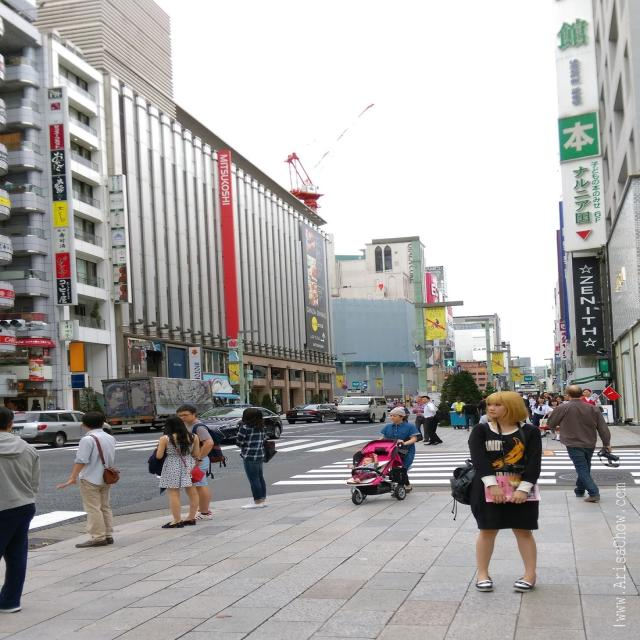body: (448, 390, 544, 593), (0, 402, 45, 614), (55, 411, 122, 548), (546, 384, 622, 504), (146, 414, 202, 530), (176, 404, 229, 522), (233, 406, 279, 510), (377, 406, 423, 498), (314, 394, 409, 414), (517, 392, 566, 426), (417, 395, 444, 446), (346, 453, 379, 484), (411, 395, 430, 443), (530, 396, 549, 438), (544, 398, 561, 442), (459, 399, 478, 432), (450, 396, 467, 429), (580, 388, 602, 408), (478, 394, 489, 416), (44, 398, 58, 412), (402, 404, 411, 424), (553, 395, 566, 406), (274, 403, 282, 416)
